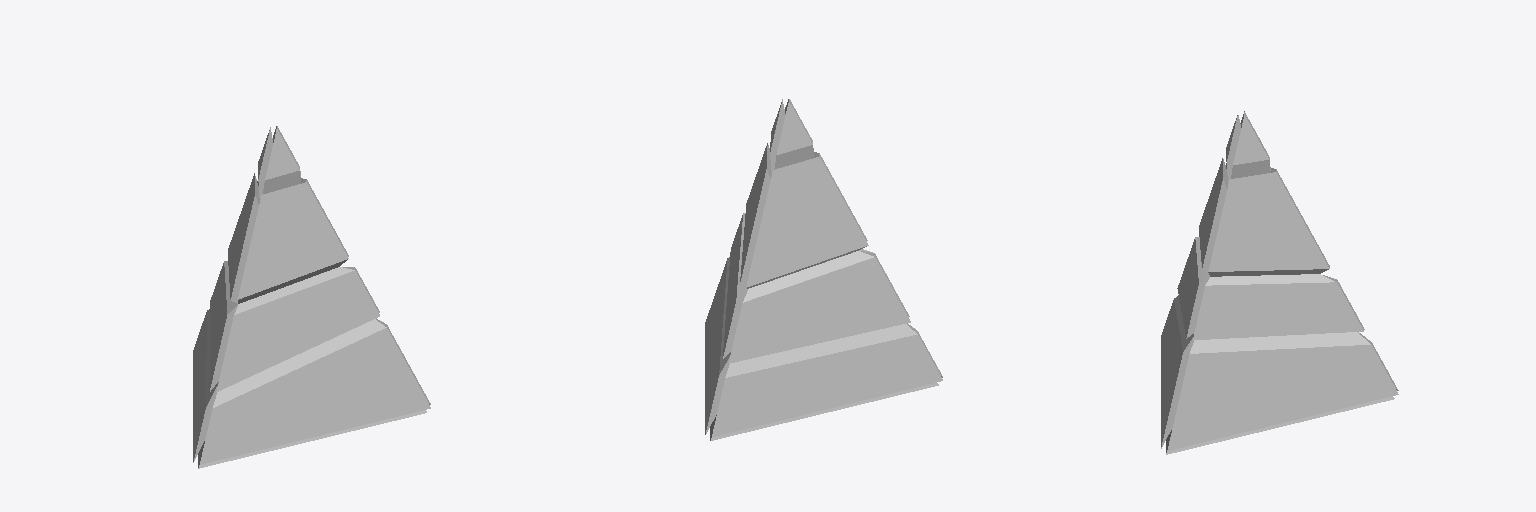
File: PONI Cracked Pyra Glow.obj
3 views of the same model, side by side, from view 1: azimuth 30°, elevation 25°; view 2: azimuth 150°, elevation 25°; view 3: azimuth 270°, elevation 25° (orthographic).
Parts seen in each view (by area): view 1: Cone; view 2: Cone; view 3: Cone.
Part boxes in pixels (x1,y1,x2,y2): Cone: (193, 126, 430, 468); Cone: (705, 99, 942, 440); Cone: (1161, 111, 1398, 454).
Bounding box in the file's own units: 2.11 × 2.42 × 1.83.